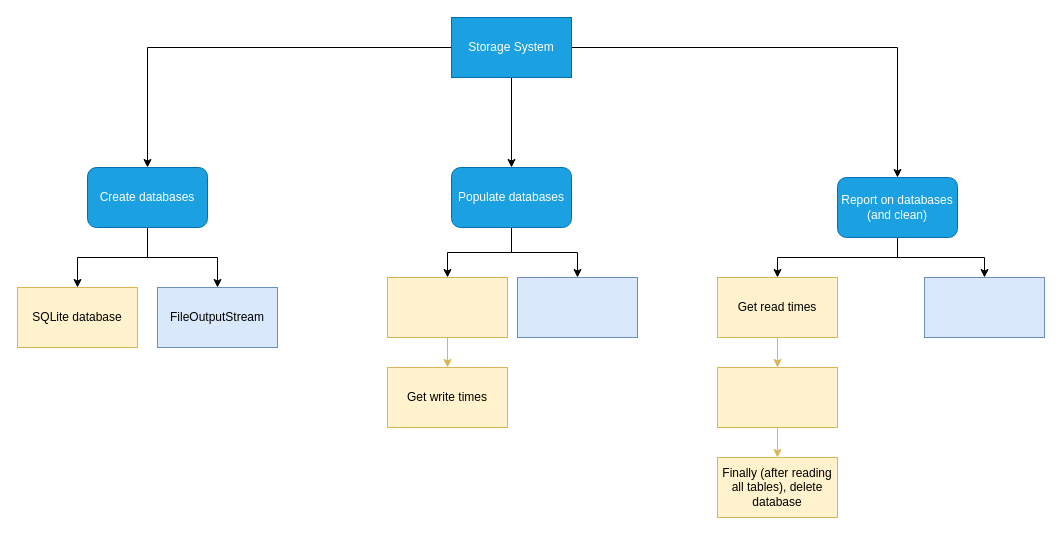
This 1062x535 diagram has some shape labels left out. The box of each missing label's shape, as (x1, y1, x2, y2) in pixels:
(Not sure what to do for the Java methods only side): (924, 276, 1044, 338)
Create tables (SQLite): (386, 276, 508, 338)
Delete table: (716, 366, 838, 428)
Read in data (?): (516, 276, 638, 338)
